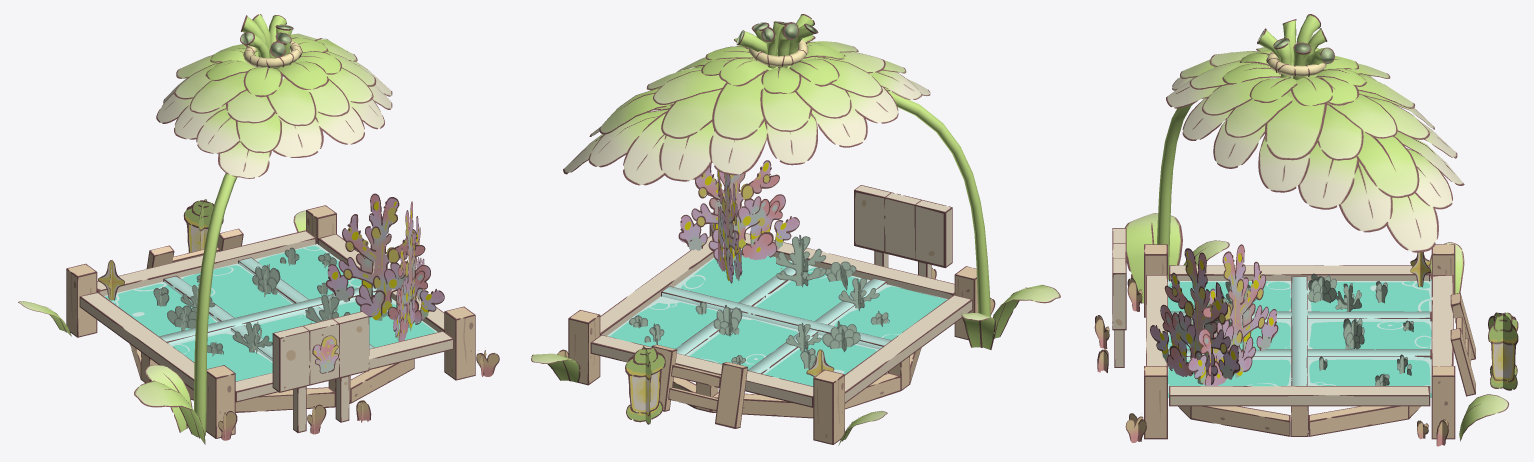
File: Mesh_Home_BH_Coral_SM.fbx
3 views of the same model, side by side, from view 1: azimuth 30°, elevation 25°; view 2: azimuth 150°, elevation 25°; view 3: azimuth 270°, elevation 25° (orthographic). The views are drawn at different scales.
Visible parts, largest first — view 1: Mesh_Home_BH_Coral_P, Mesh_Home_BH_Coral, Mesh_Home_BH_Coral_Water; view 2: Mesh_Home_BH_Coral_P, Mesh_Home_BH_Coral, Mesh_Home_BH_Coral_Water; view 3: Mesh_Home_BH_Coral_P, Mesh_Home_BH_Coral, Mesh_Home_BH_Coral_Water.
Boxes of the visible parts, bbox=[...] form: Mesh_Home_BH_Coral_P: bbox=[18, 33, 499, 444]; Mesh_Home_BH_Coral: bbox=[66, 14, 475, 438]; Mesh_Home_BH_Coral_Water: bbox=[105, 246, 435, 381]; Mesh_Home_BH_Coral_P: bbox=[530, 35, 1060, 445]; Mesh_Home_BH_Coral: bbox=[568, 14, 990, 444]; Mesh_Home_BH_Coral_Water: bbox=[609, 250, 946, 386]; Mesh_Home_BH_Coral_P: bbox=[1094, 47, 1518, 446]; Mesh_Home_BH_Coral: bbox=[1112, 14, 1475, 439]; Mesh_Home_BH_Coral_Water: bbox=[1168, 279, 1431, 395].
Bounding box in the file's own units: 379 × 345 × 377.
Materials: 2 (2 with a texture image).
